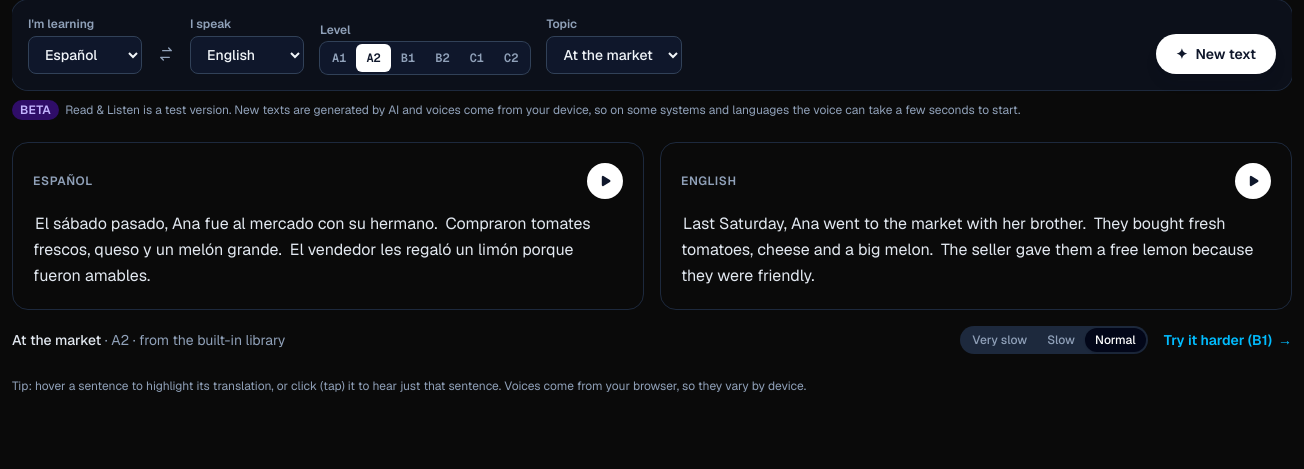
Scenario: Read & Listen page › shows a short code for what went wrong when the AI had a problem
Click the button "✦ New text": point(1216, 54) [1156,34,1276,74]
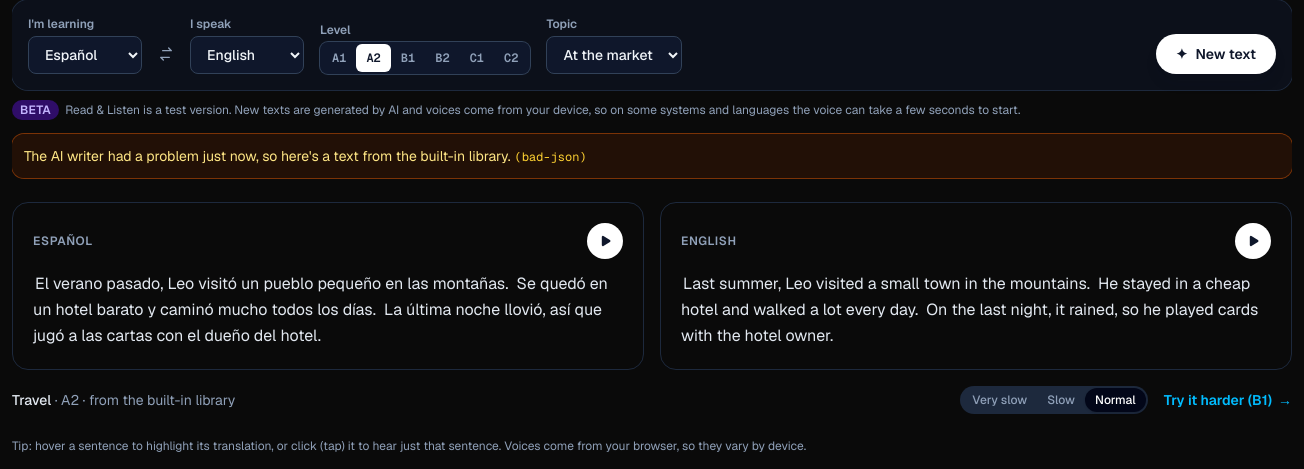
expect the message shows "had a problem": met, box [24,147,510,165]
expect the message shows "(bad-json)": met, box [522,149,579,165]
